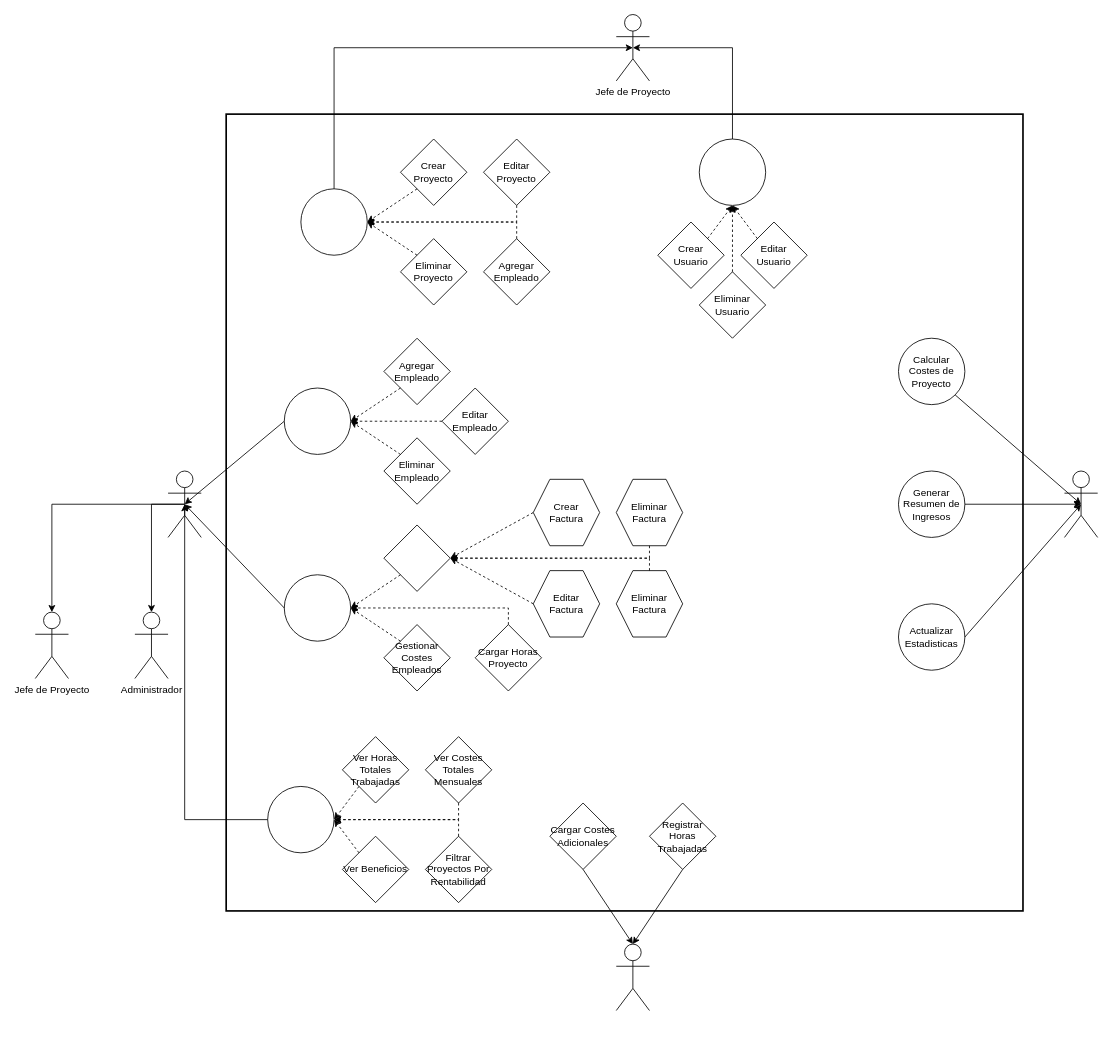
The diagram is 1112 pixels wide and 1055 high, and some of its shapes have lost their labels. Here are the shapes that lost their labels. From the top down, the centre of each, then its label:
[732,171]: Gestionar Usuarios
[333,221]: Gestionar Proyectos
[317,420]: Gestionar Empleados
[184,503]: User
[1081,503]: System
[416,557]: Gestionar Factura
[317,607]: Gestion Economica Proyecto
[300,819]: Gestionar Estadisticas
[632,977]: Empleado
